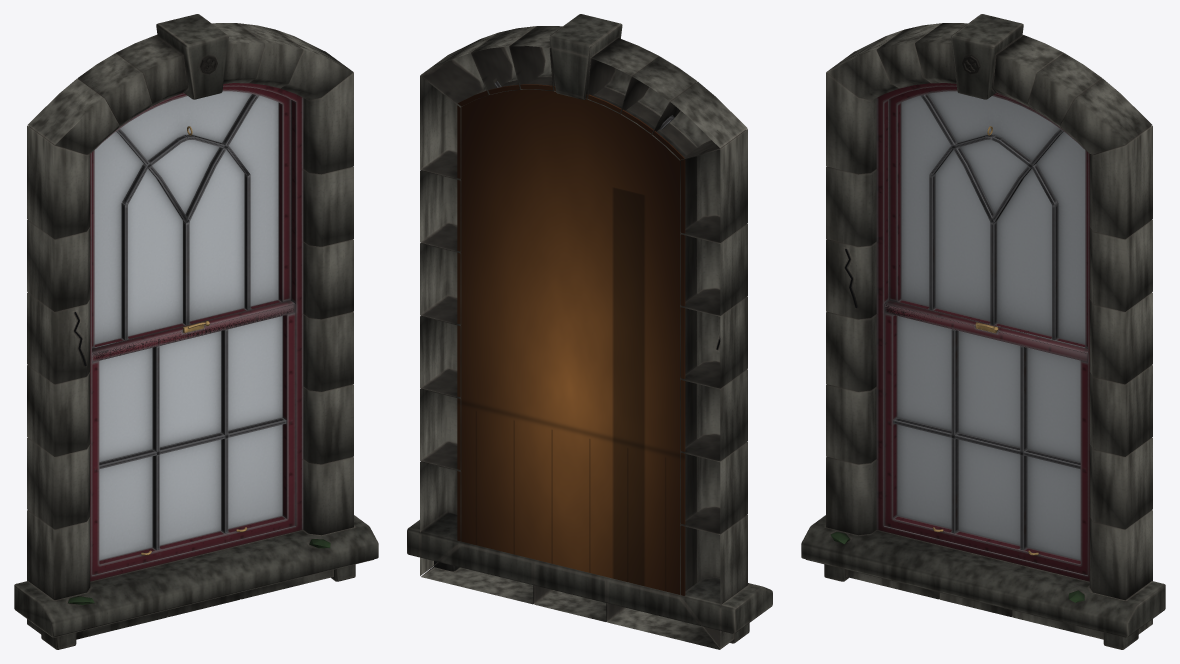
Rendered from SashWindow.fbx.
The picture shows the model from 3 angles, left to right: view 1: azimuth 30°, elevation 25°; view 2: azimuth 150°, elevation 25°; view 3: azimuth 330°, elevation 25°; orthographic projection.
Parts seen in each view (by area): view 1: SashWindow_Main, SashWindow_Glass; view 2: SashWindow_Room, SashWindow_Main; view 3: SashWindow_Main, SashWindow_Glass.
Part boxes in pixels (x1,y1,x2,y2): SashWindow_Main: [14, 14, 378, 649]; SashWindow_Glass: [94, 91, 282, 560]; SashWindow_Room: [457, 84, 685, 595]; SashWindow_Main: [407, 14, 772, 649]; SashWindow_Main: [801, 14, 1165, 649]; SashWindow_Glass: [897, 91, 1085, 560].
Bounding box in the file's own units: 480 × 806 × 106.
